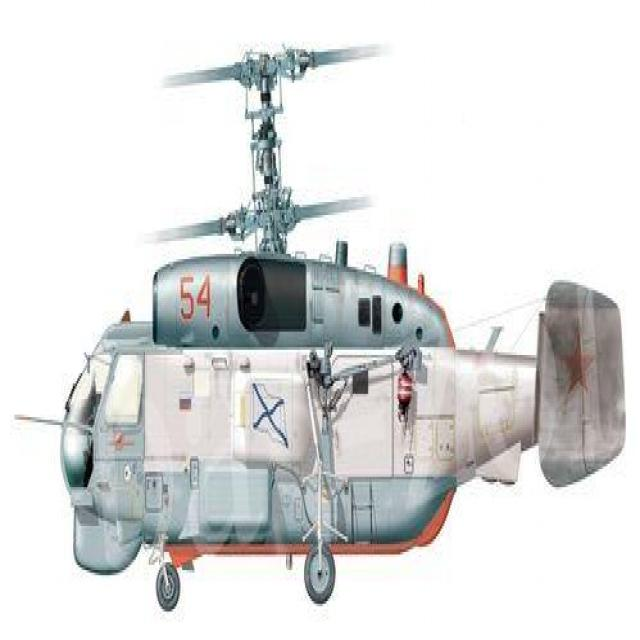MIL_HELO: (31, 26, 639, 618)
